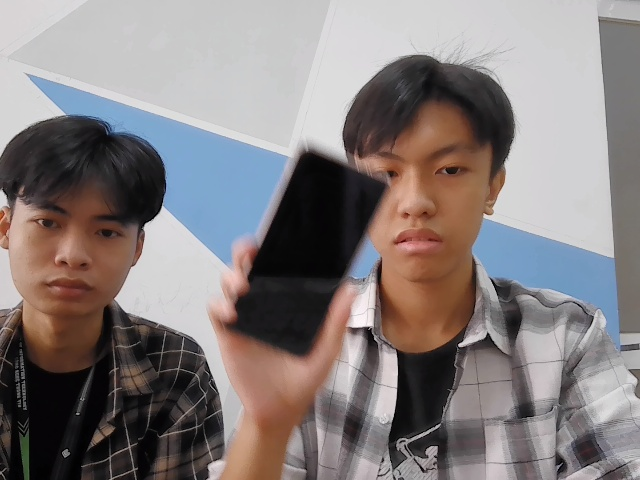human: (345, 56, 514, 288), (1, 107, 175, 316)
phone: (222, 139, 386, 363)
